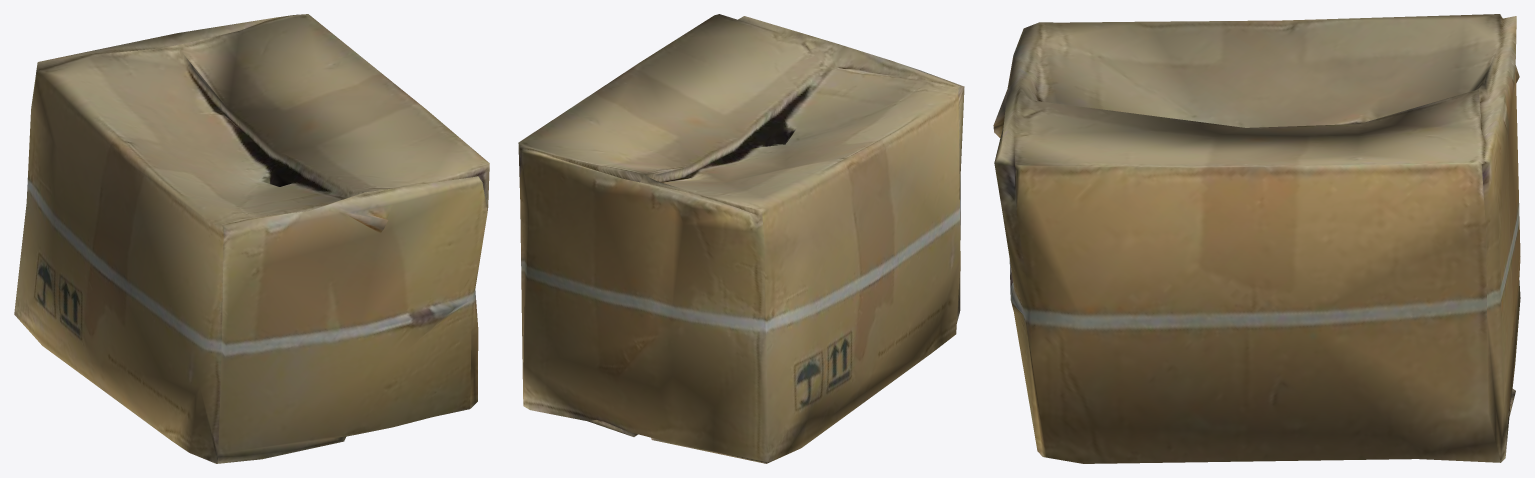
Rendered from cardboard_box_01.glb.
3 views of the same model, side by side, from view 1: azimuth 30°, elevation 25°; view 2: azimuth 150°, elevation 25°; view 3: azimuth 270°, elevation 25° (orthographic). The views are drawn at different scales.
Visible parts, largest first — view 1: cardboard_box_01; view 2: cardboard_box_01; view 3: cardboard_box_01.
Part boxes in pixels (bbox=[...]): cardboard_box_01: bbox=[14, 14, 489, 463]; cardboard_box_01: bbox=[518, 14, 964, 463]; cardboard_box_01: bbox=[993, 14, 1520, 463].
Bounding box in the file's own units: 0.3827 × 0.3358 × 0.5159.
1 material, 1 textured.
